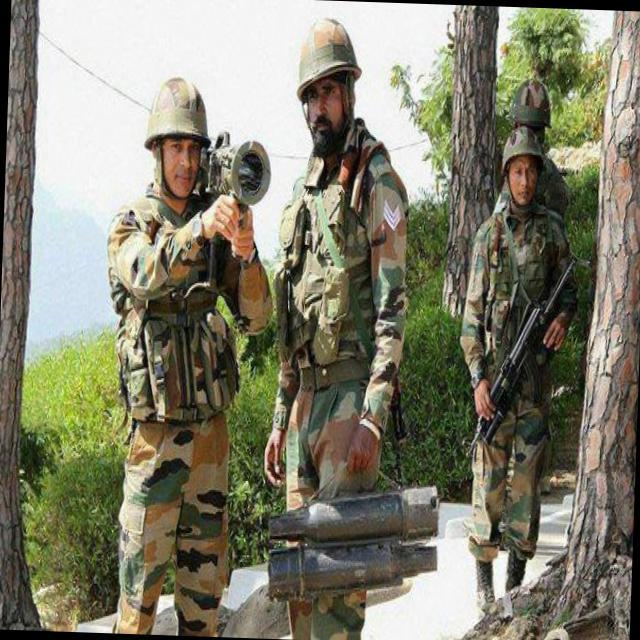rocket: (262, 471, 441, 604)
